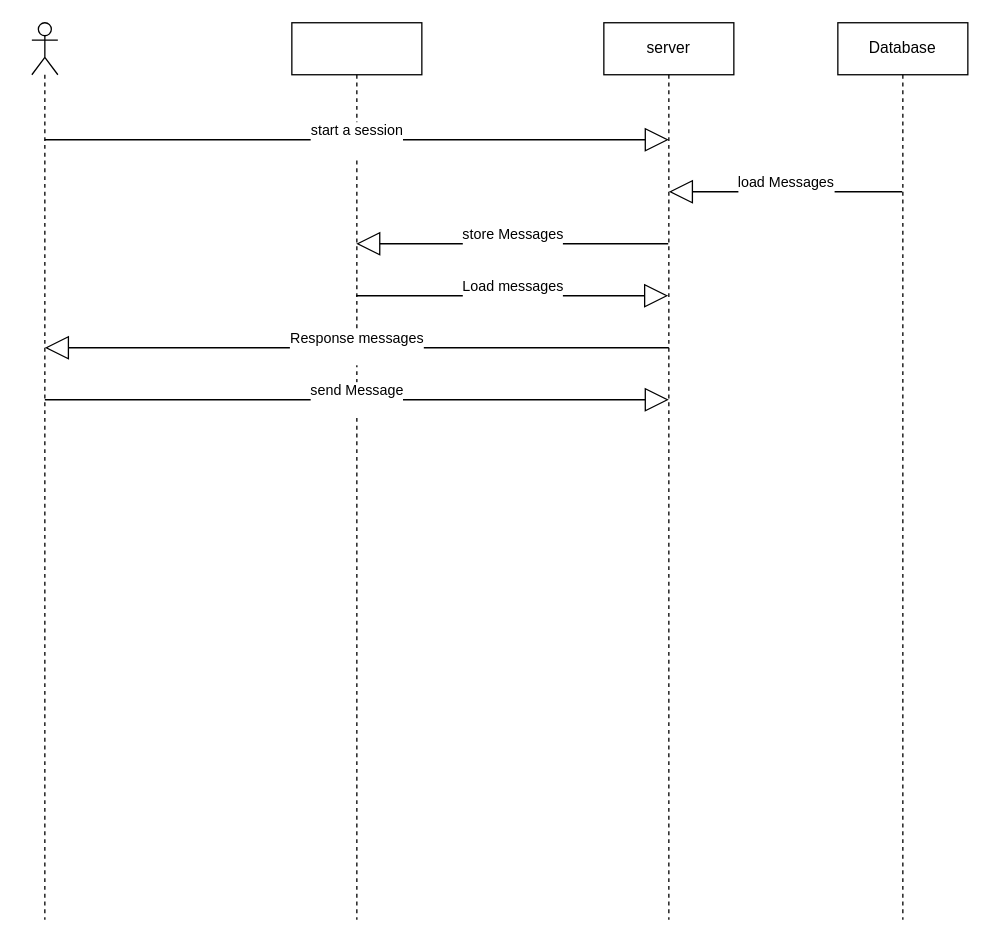
This 991x942 diagram has some shape labels left out. Each missing label, with the box of its shape:
Redis: (291, 21, 422, 920)
user: (31, 21, 58, 920)
